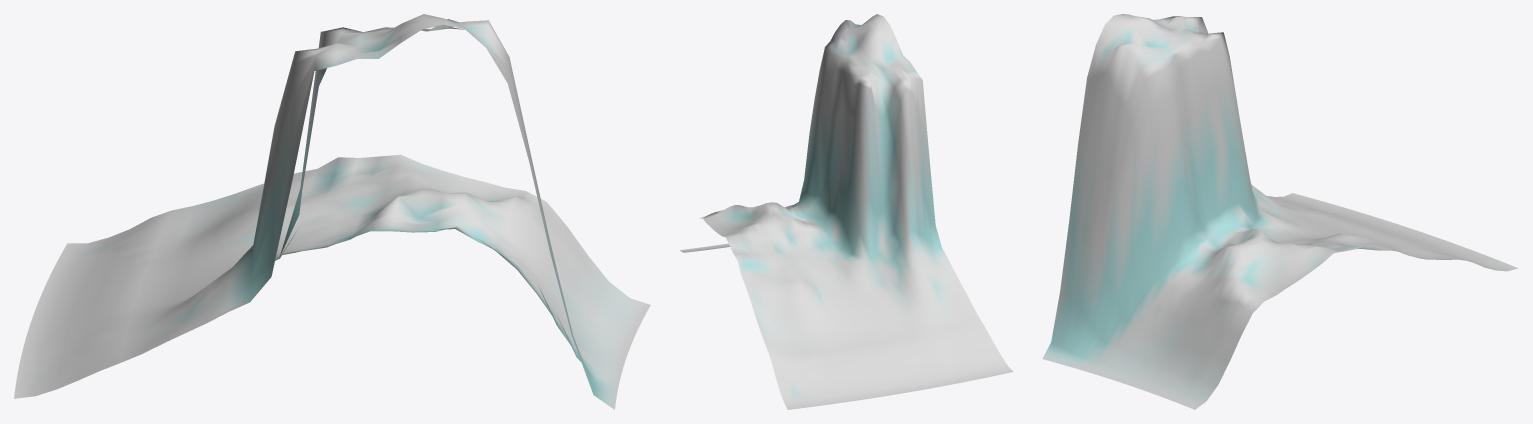
File: middle_5.glb
The picture shows the model from 3 angles, left to right: view 1: azimuth 30°, elevation 25°; view 2: azimuth 150°, elevation 25°; view 3: azimuth 270°, elevation 25°; orthographic projection. The views are drawn at different scales.
Parts seen in each view (by area): view 1: Mountain; view 2: Mountain; view 3: Mountain.
Part boxes in pixels (<box>): Mountain: <box>14,14,650,409</box>; Mountain: <box>679,14,1013,409</box>; Mountain: <box>1042,14,1518,409</box>.
Size of the model in its own units: 661 by 421 by 613.
